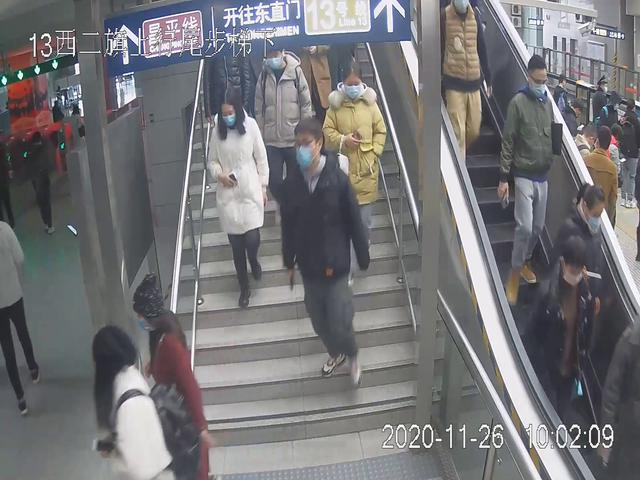person: (276, 115, 374, 388), (125, 268, 218, 480), (515, 234, 611, 425), (316, 51, 391, 288), (86, 324, 199, 480), (496, 52, 564, 309), (205, 88, 276, 311), (245, 42, 323, 227), (436, 1, 496, 176)
